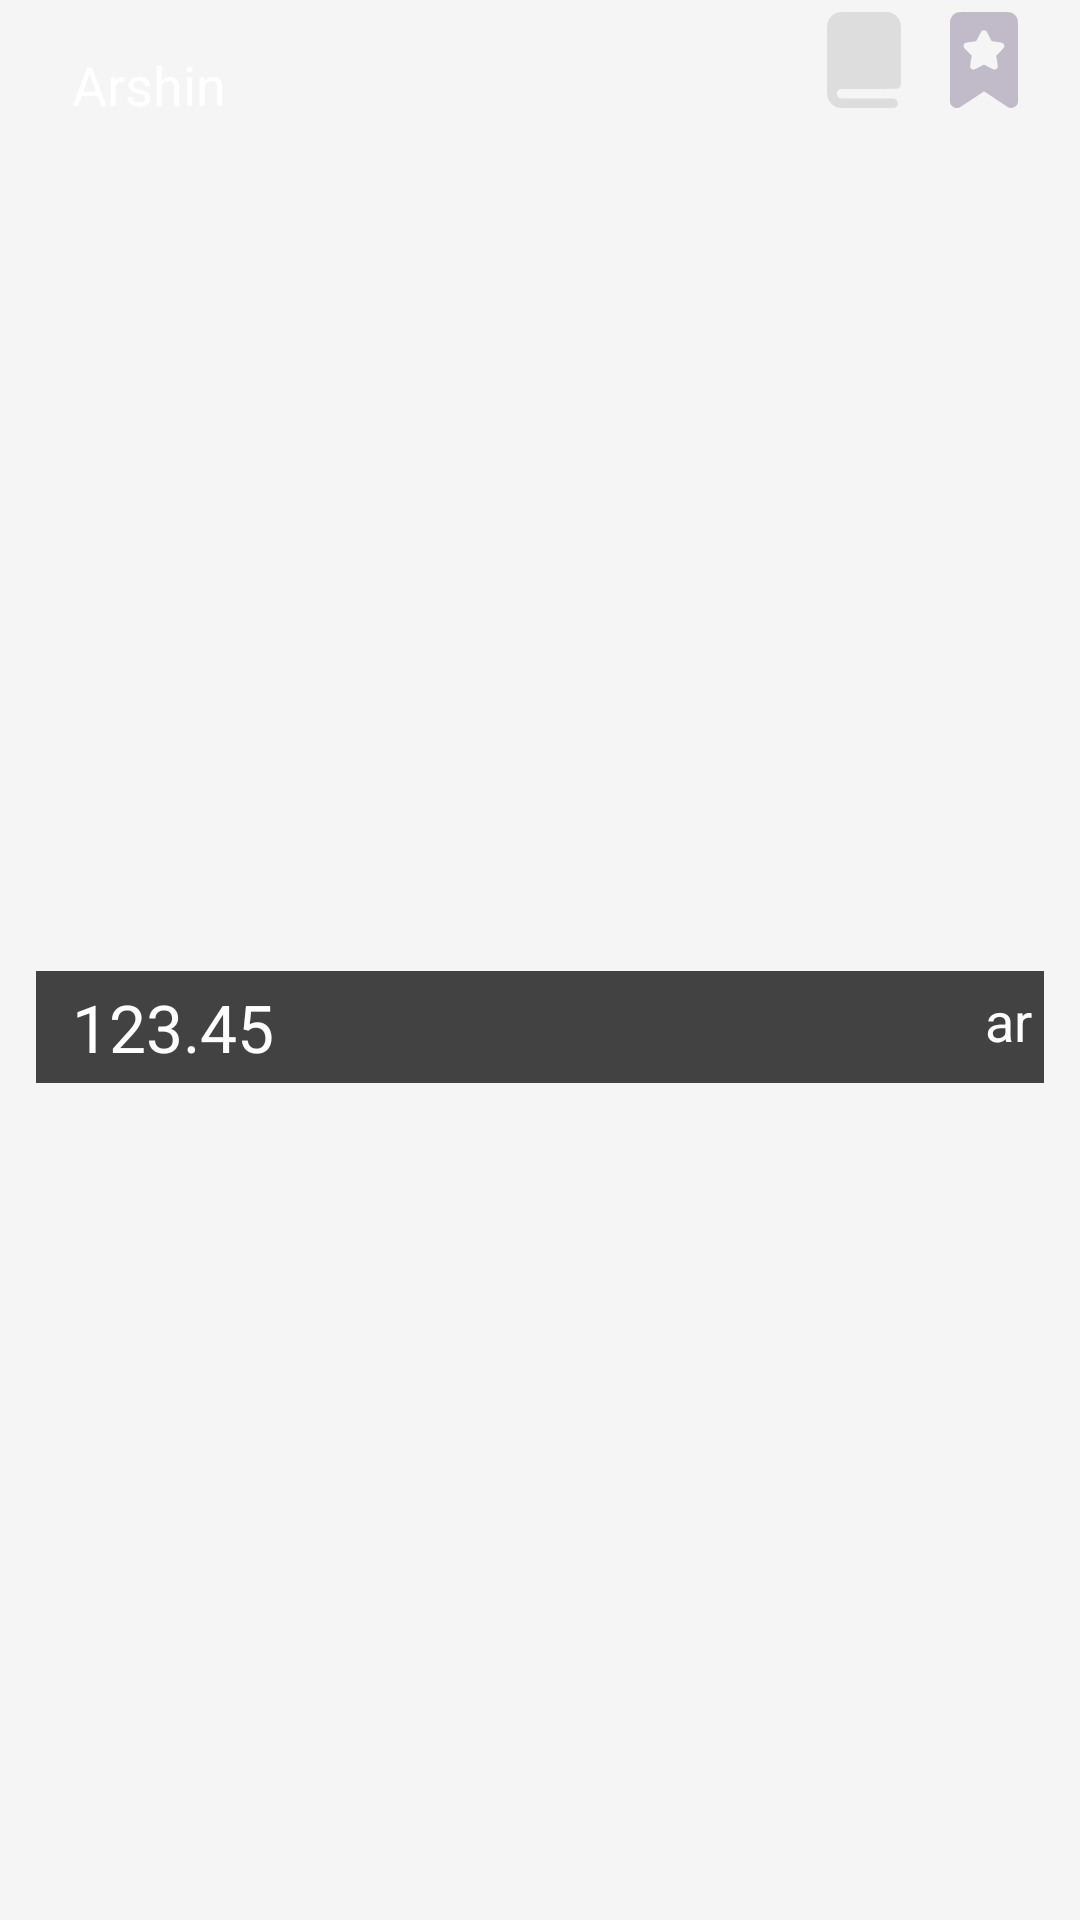

Icon click points for this 1080x1920 phone screenshot, format (x,y):
bookmark: (984,60)
